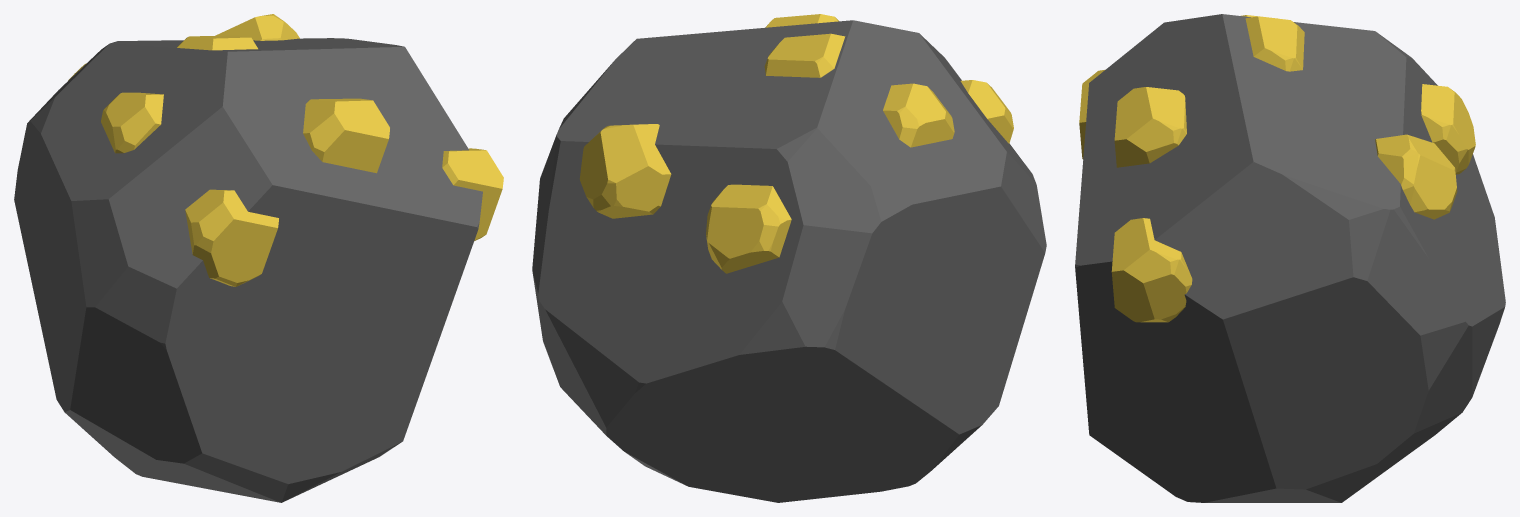
Rendered from IronOreSource.fbx.
3 views of the same model, side by side, from view 1: azimuth 30°, elevation 25°; view 2: azimuth 150°, elevation 25°; view 3: azimuth 270°, elevation 25° (orthographic). The views are drawn at different scales.
Visible parts, largest first — view 1: Icosphere, Icosphere.006, Icosphere.004, Icosphere.005, Icosphere.007, Icosphere.003, Icosphere.002; view 2: Icosphere, Icosphere.003, Icosphere.001, Icosphere.005, Icosphere.002, Icosphere.006, Icosphere.004; view 3: Icosphere, Icosphere.007, Icosphere.004, Icosphere.003, Icosphere.001, Icosphere.002, Icosphere.006.
Boxes of the visible parts, <box> form: Icosphere: <box>14,38,482,502</box>; Icosphere.006: <box>185,189,278,286</box>; Icosphere.004: <box>303,98,389,173</box>; Icosphere.005: <box>101,92,163,153</box>; Icosphere.007: <box>442,148,503,240</box>; Icosphere.003: <box>215,14,299,40</box>; Icosphere.002: <box>177,35,257,50</box>; Icosphere: <box>532,20,1046,502</box>; Icosphere.003: <box>579,124,671,218</box>; Icosphere.001: <box>706,184,791,273</box>; Icosphere.005: <box>883,83,954,147</box>; Icosphere.002: <box>764,33,845,77</box>; Icosphere.006: <box>960,80,1013,143</box>; Icosphere.004: <box>765,14,838,27</box>; Icosphere: <box>1075,14,1505,502</box>; Icosphere.007: <box>1111,218,1192,322</box>; Icosphere.004: <box>1114,87,1186,167</box>; Icosphere.003: <box>1375,134,1457,219</box>; Icosphere.001: <box>1421,84,1475,174</box>; Icosphere.002: <box>1245,16,1304,71</box>; Icosphere.006: <box>1079,70,1104,159</box>.
Bounding box in the file's own units: 1.76 × 1.93 × 1.65.
